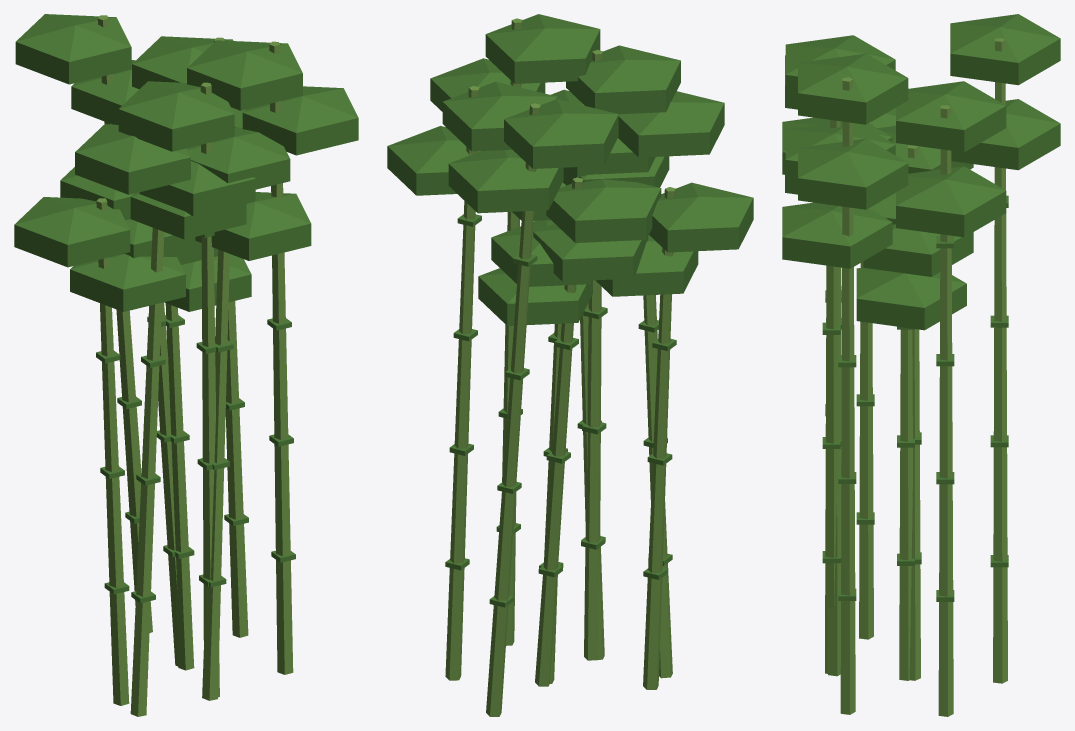
Rendered from nature_bamboo_a.glb.
3 renders of one model, left to right at view 1: azimuth 30°, elevation 25°; view 2: azimuth 150°, elevation 25°; view 3: azimuth 270°, elevation 25°, orthographic.
Parts seen in each view (by area): view 1: nature_bamboo_a; view 2: nature_bamboo_a; view 3: nature_bamboo_a.
Part boxes in pixels (x1,y1,x2,y2): nature_bamboo_a: (14, 14, 358, 716); nature_bamboo_a: (387, 14, 753, 716); nature_bamboo_a: (782, 14, 1060, 716).
Size of the model in its own units: 2.88 by 5.41 by 2.18.
